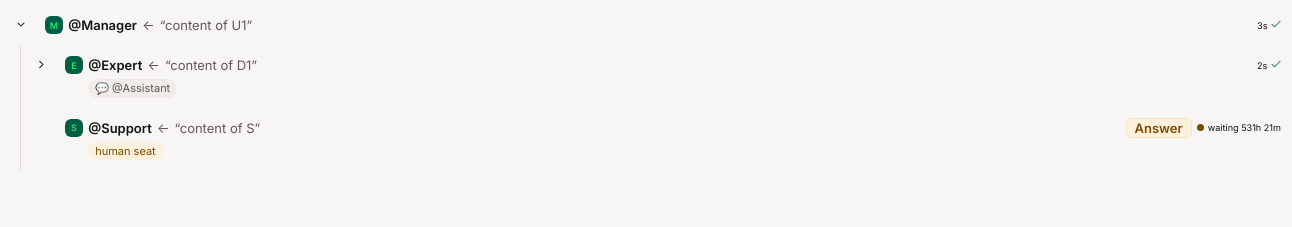
it: TraceTreeComponent › case 5: a red failed-tool chip on an ordinary done node
Click the 2nd button with class "node-chevron" at (41, 65), box x1=32 y1=55 x2=50 y2=75
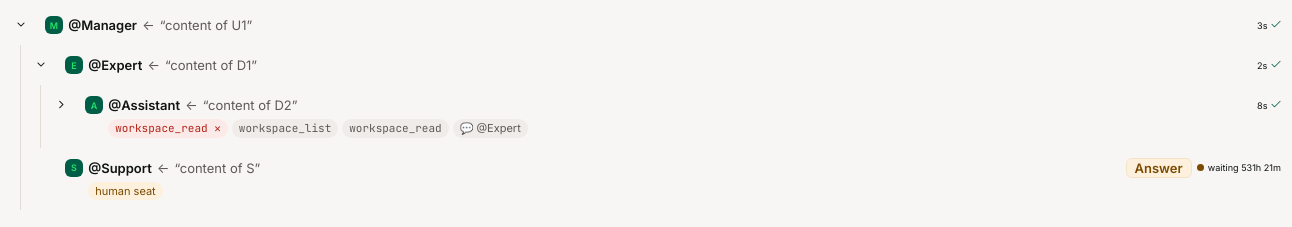
Expected: the number of elements with class "chip--failed" is 1, x1=108 y1=119 x2=228 y2=138
Expected: the text with class "chip--failed" reads "workspace_read ✕", x1=108 y1=119 x2=228 y2=138
